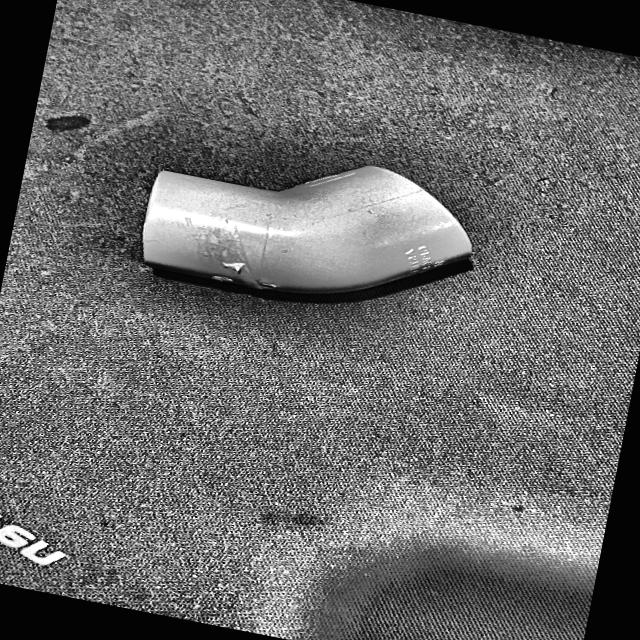ELBOW45: (140, 165, 472, 302)
